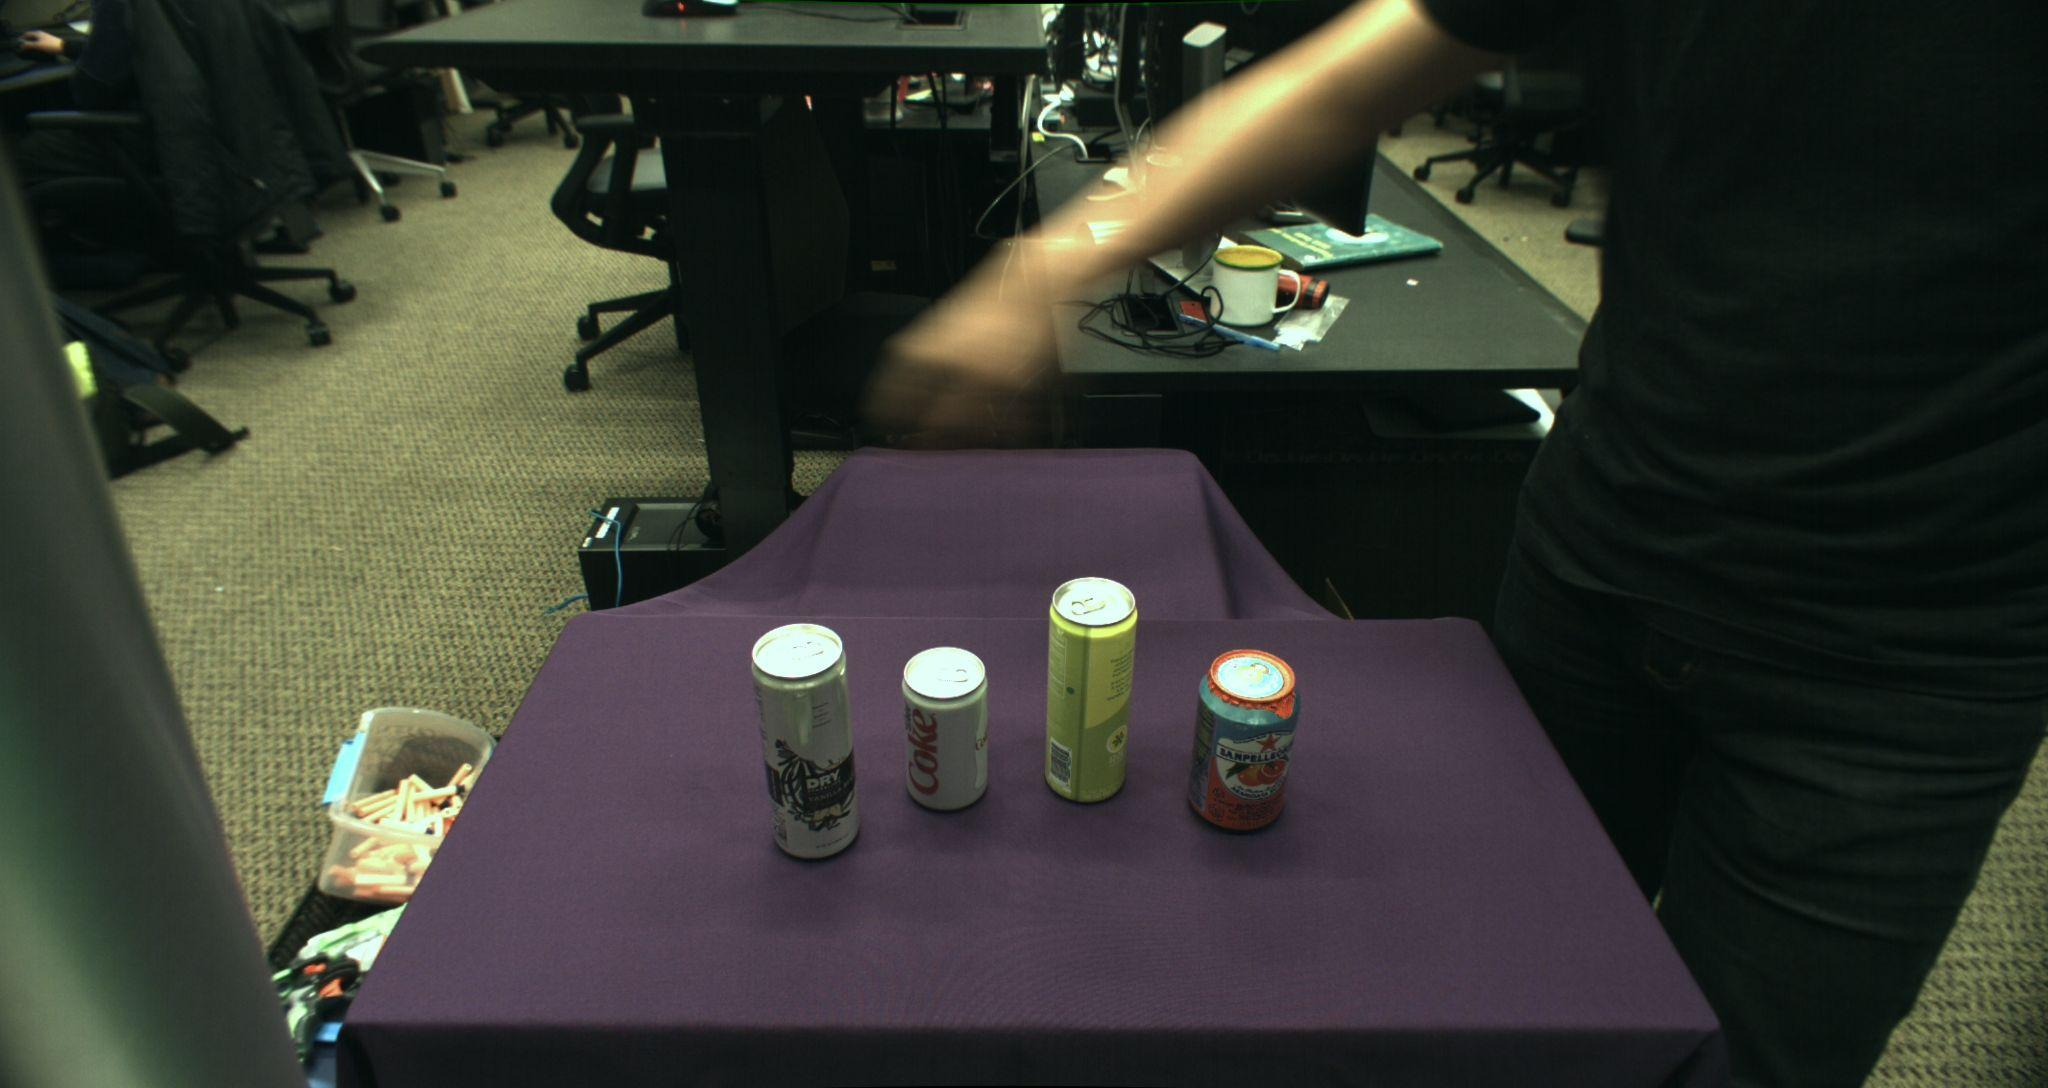can_diet_coke_small: (901, 645, 990, 814)
can_dry_sparkling_vanilla_bean: (750, 621, 861, 860)
can_izze_fusions_lemon_lime: (1042, 574, 1139, 803)
can_sanpellegrino_blood_orange: (1187, 648, 1300, 833)
